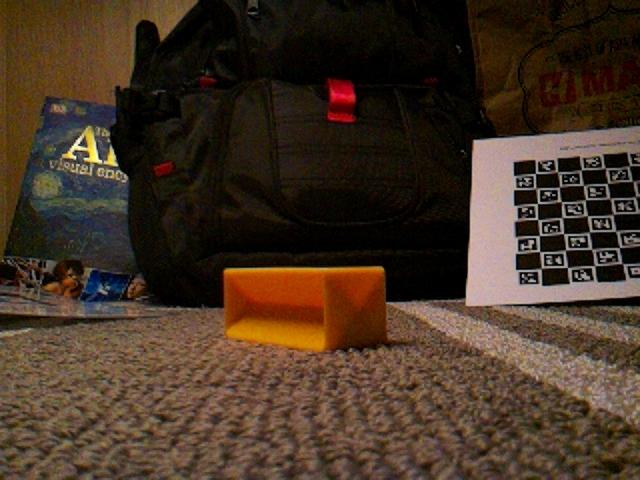yellow: (222, 265, 390, 354)
